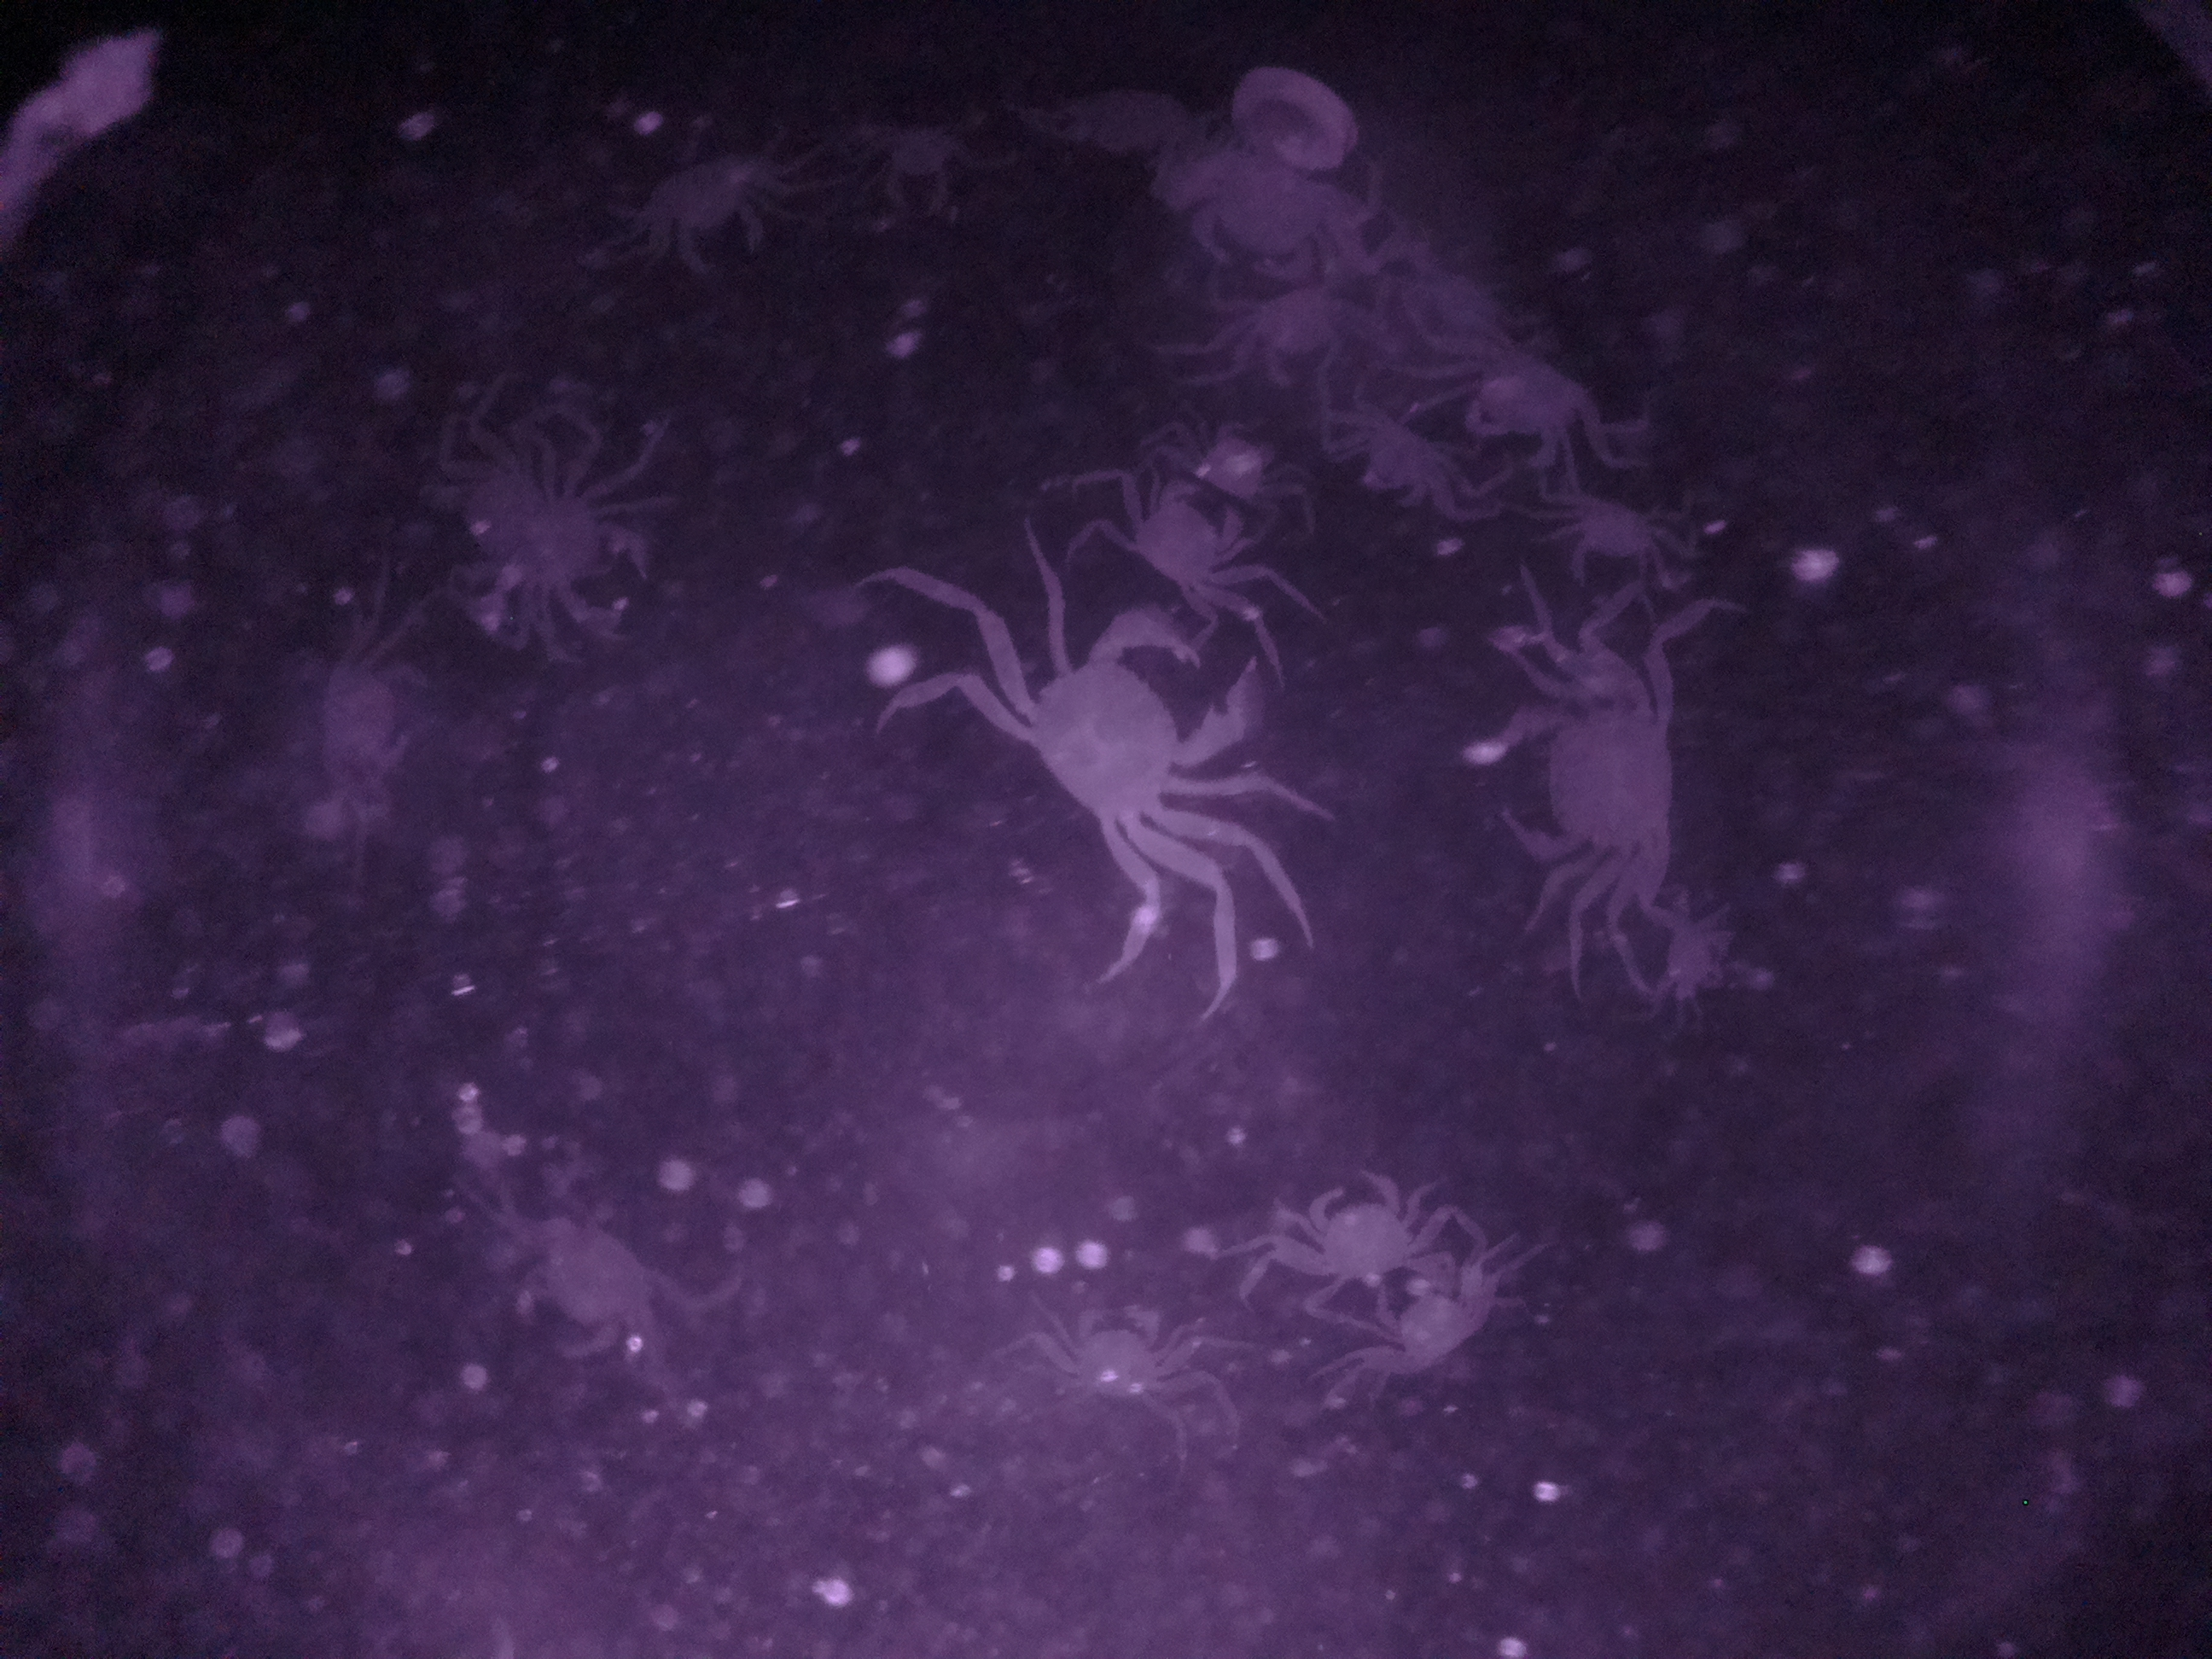Crab: (968, 612, 1268, 885), (1489, 653, 1684, 922), (618, 138, 817, 291), (1350, 1237, 1522, 1399), (1024, 1290, 1198, 1422), (1104, 460, 1259, 608), (1275, 1161, 1439, 1297), (1538, 476, 1700, 606)
